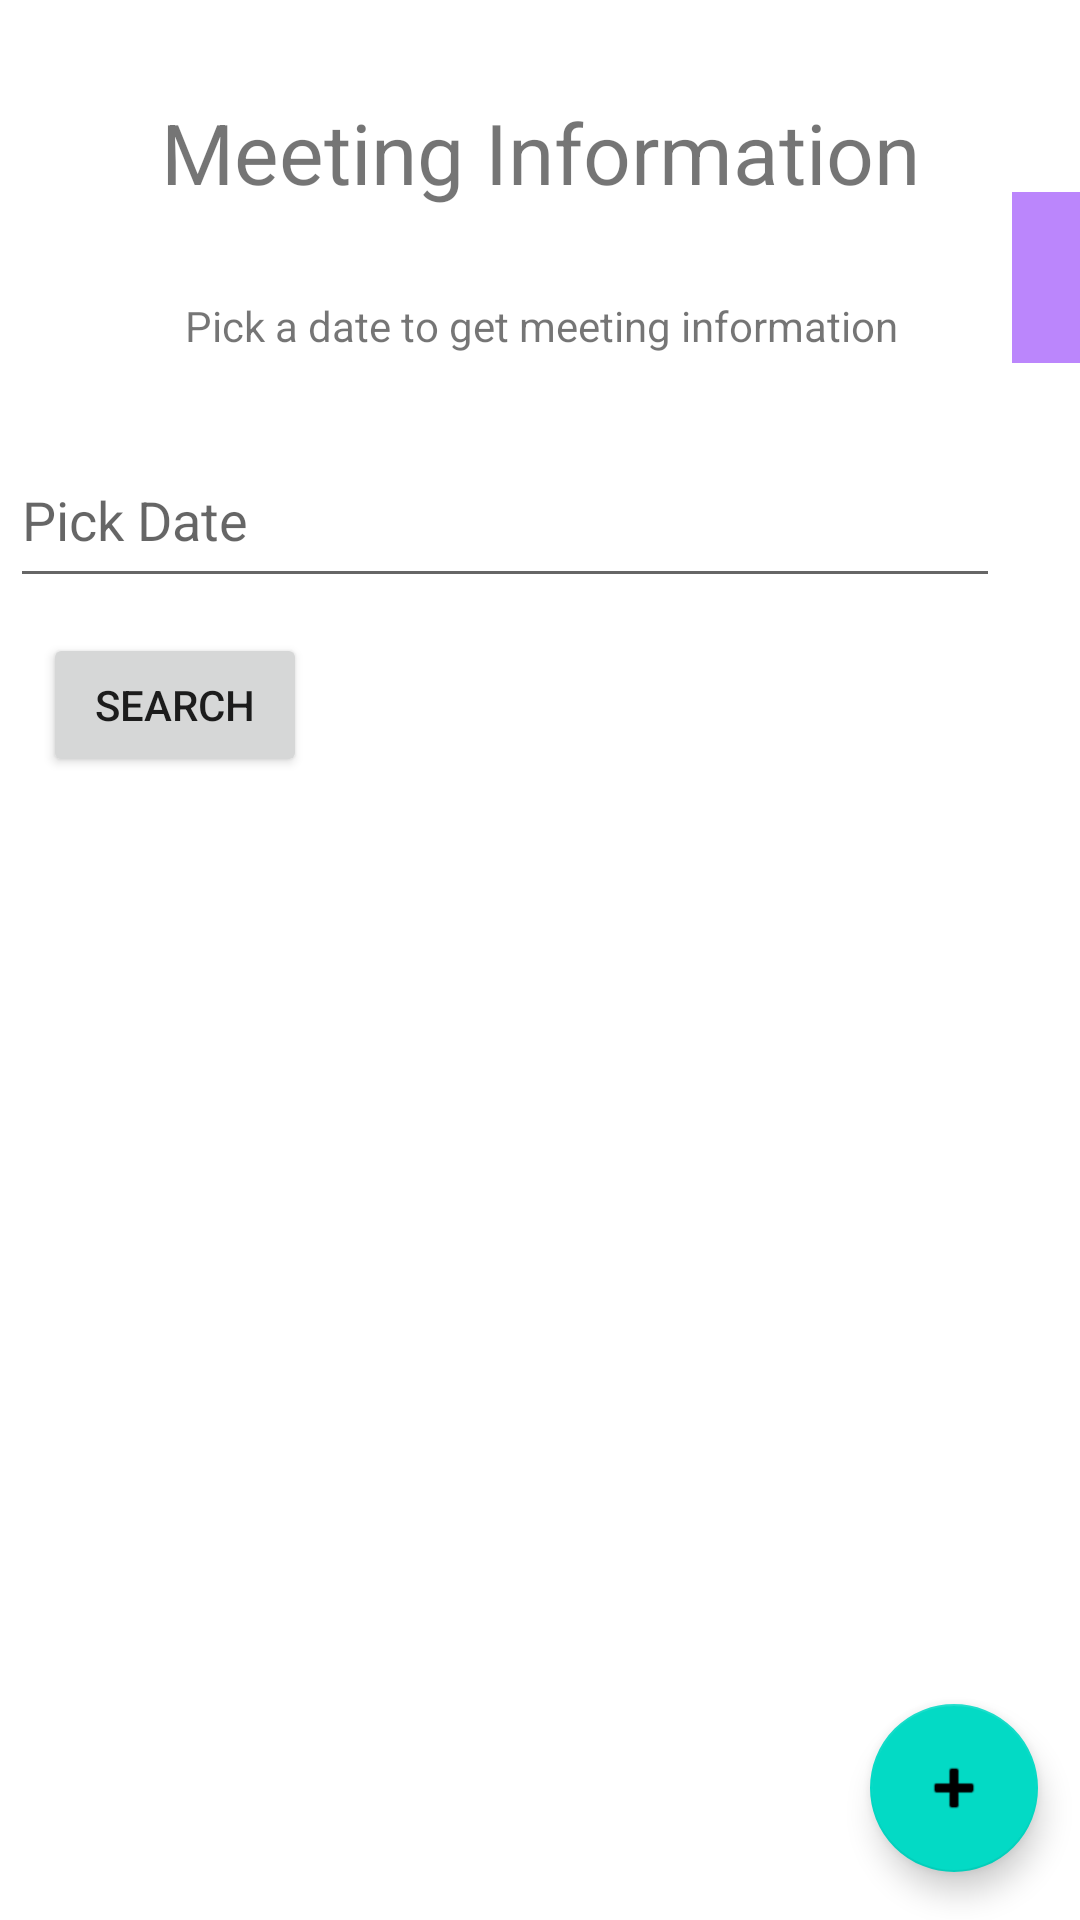

Where icons sit on this 1080x1920 app screen, as (x1, y1, x2, y2):
add: (870, 1704, 1038, 1872)
